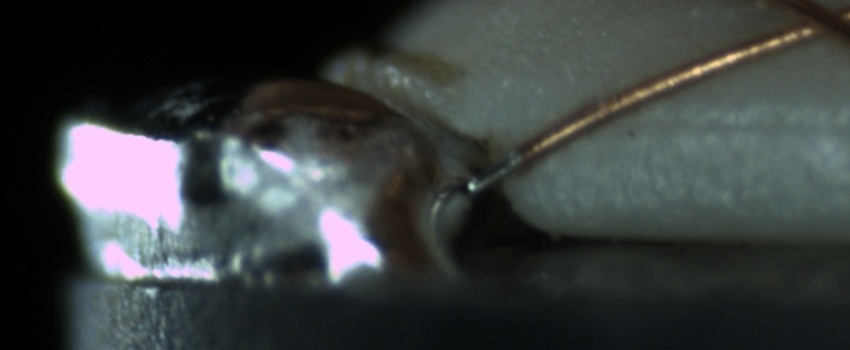CL: (764, 1, 848, 47)
DL: (613, 90, 844, 159)
TS: (467, 150, 524, 192)
